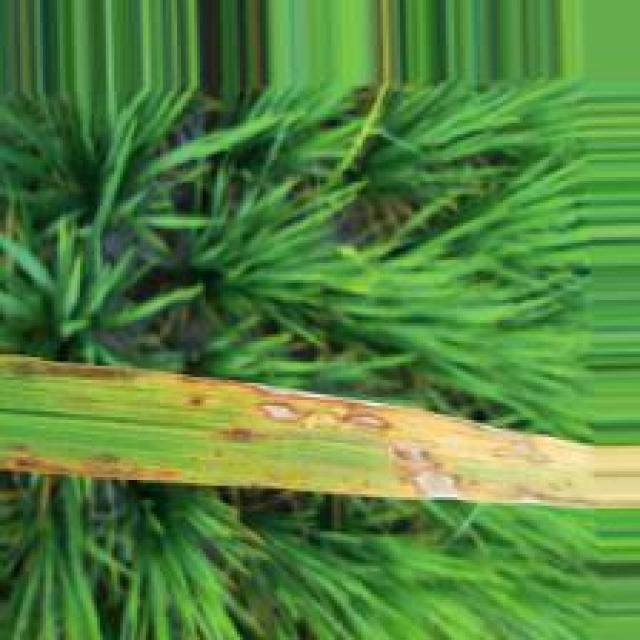Bacterial_Leaf_Blight: (169, 376, 554, 465), (385, 440, 612, 511), (195, 451, 416, 497), (5, 440, 185, 480), (5, 358, 160, 385), (228, 422, 283, 446), (188, 394, 204, 406)
